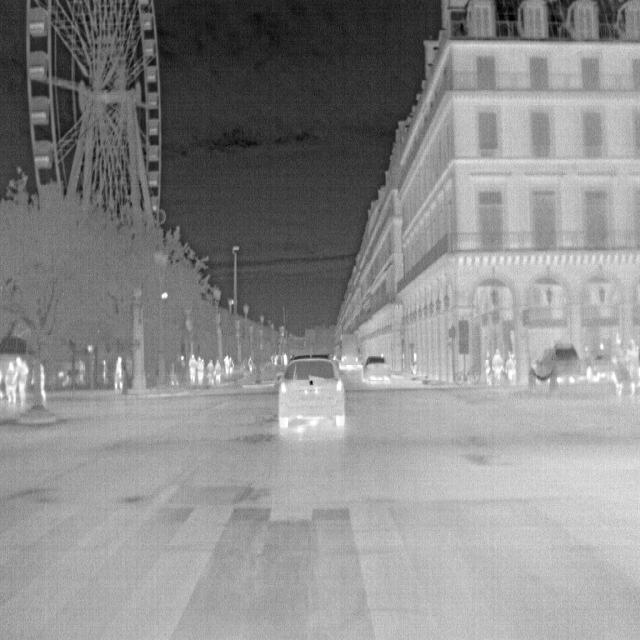Pedestrian: (13, 357, 28, 408), (5, 359, 17, 405), (490, 348, 503, 383), (113, 353, 124, 392), (187, 351, 196, 384), (196, 354, 204, 384), (214, 359, 222, 385), (207, 359, 214, 385)
Vehicle: (276, 350, 347, 434), (360, 354, 392, 384)
